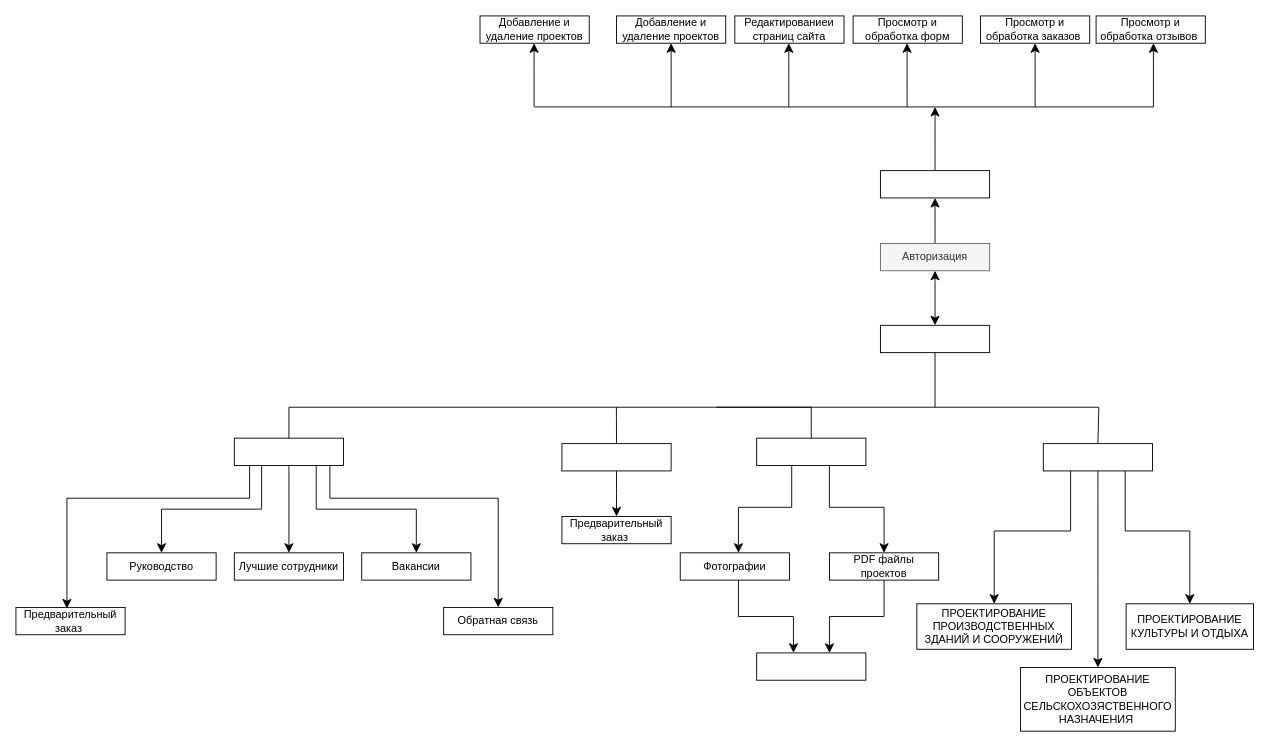
Some shapes in this 1269 by 747 pixel diagram are drawn without their labels. Each missing label, with the centre of its shape:
"Главная" goes at pixel 288 451.
"Заказ" goes at pixel 616 457.
"Наши проекты" goes at pixel 811 451.
"Отзывы" goes at pixel 811 666.
"Права Администратора" goes at pixel 935 184.
"Структура сайта" goes at pixel 935 338.
"Услуги" goes at pixel 1097 457.
